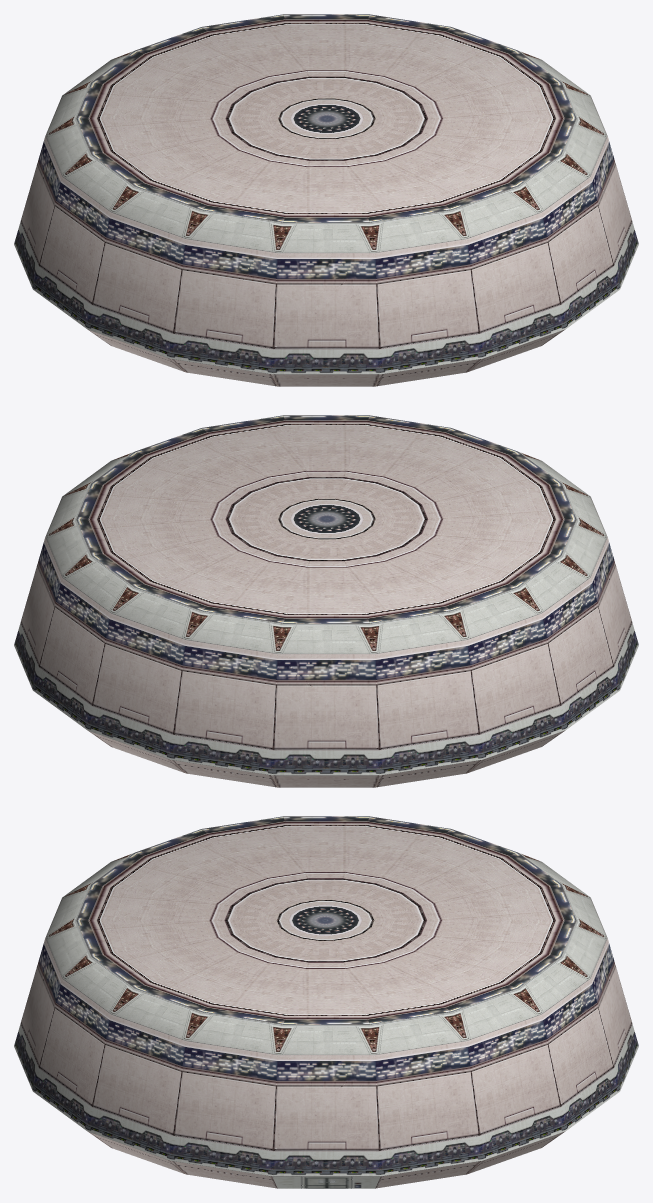
Rendered from bes2_bldg_b_bot2.glb.
3 views of the same model, one above another, from view 1: azimuth 30°, elevation 25°; view 2: azimuth 150°, elevation 25°; view 3: azimuth 270°, elevation 25° (orthographic).
Visible parts, largest first — view 1: mesh_part3, mesh_part2; view 2: mesh_part3, mesh_part2; view 3: mesh_part3, mesh_part2, mesh_part1.
Part boxes in pixels (x1,y1,x2,y2): mesh_part3: (20, 14, 632, 386); mesh_part2: (14, 51, 638, 374); mesh_part3: (20, 415, 632, 787); mesh_part2: (14, 452, 638, 775); mesh_part3: (20, 816, 632, 1188); mesh_part2: (14, 853, 638, 1176); mesh_part1: (272, 1176, 380, 1188).
Size of the model in its own units: 44.32 by 12 by 45.
Materials: 3 (3 with a texture image).
